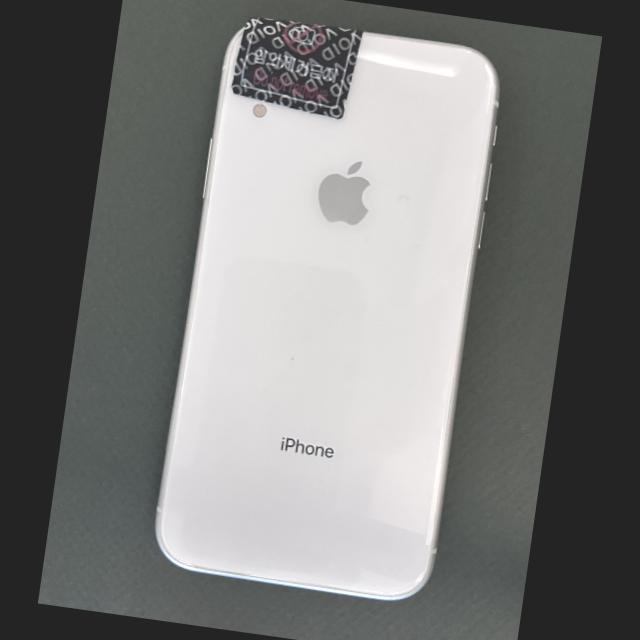phone: (155, 20, 501, 602)
sticker: (231, 17, 364, 120)
